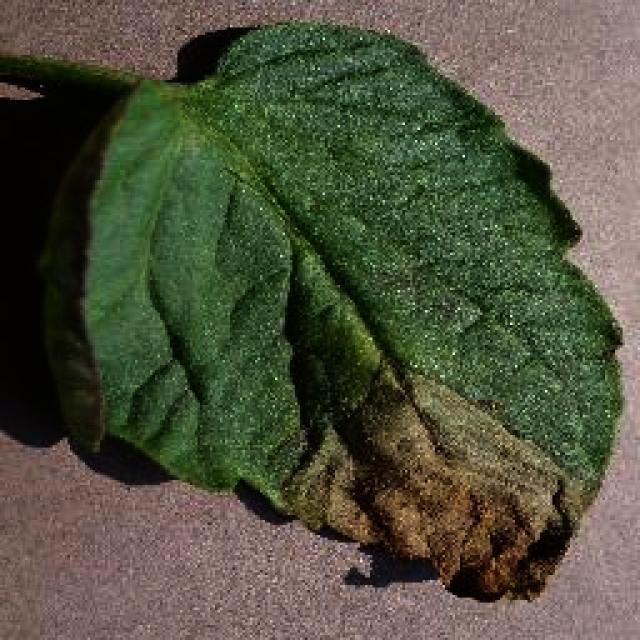Tomato late blight leaf: (45, 22, 627, 608)
